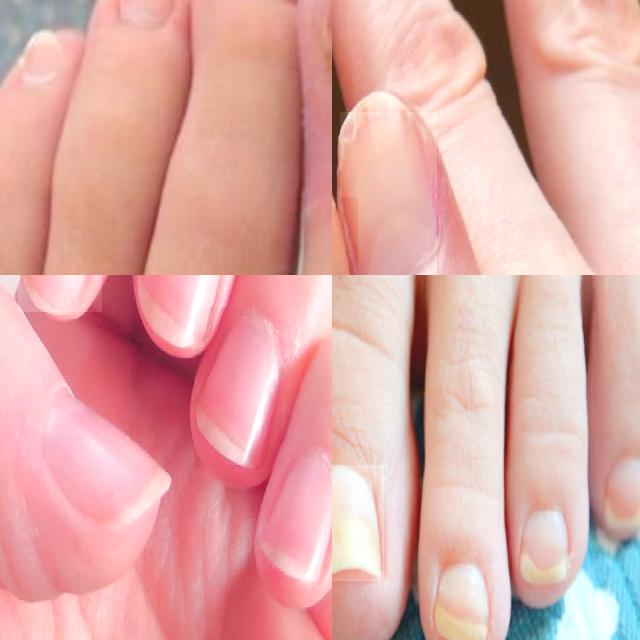diabetes: (332, 466, 384, 578), (435, 565, 490, 640), (520, 512, 569, 585), (121, 0, 176, 24)
sehat: (43, 390, 170, 532), (341, 112, 437, 275), (194, 307, 282, 469), (263, 452, 332, 583), (138, 275, 219, 342), (24, 275, 91, 312)
